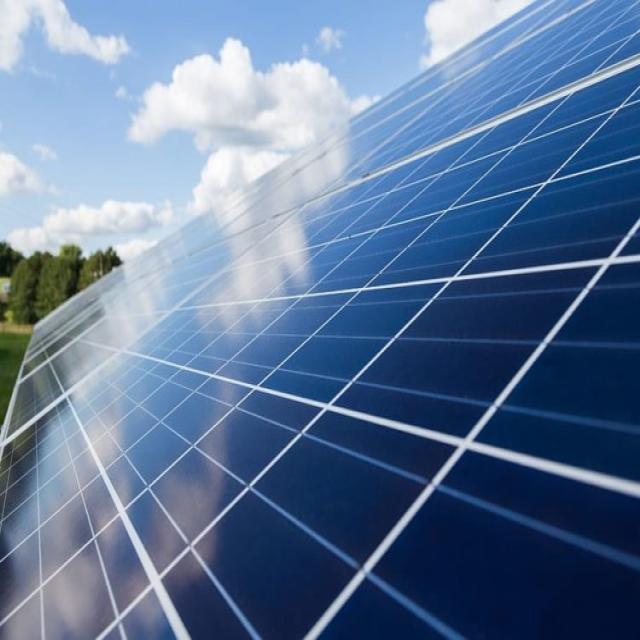clean-solar-panel: (0, 2, 640, 638)
